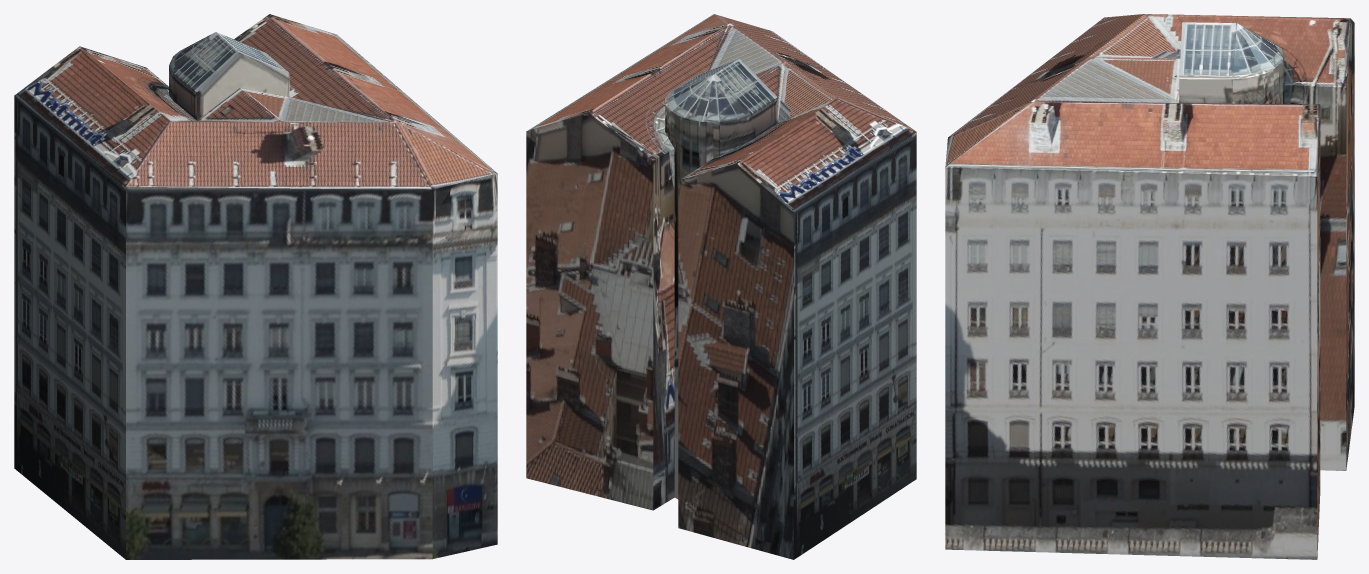
The picture shows the model from 3 angles, left to right: view 1: azimuth 30°, elevation 25°; view 2: azimuth 150°, elevation 25°; view 3: azimuth 270°, elevation 25°; orthographic projection. The views are drawn at different scales.
Parts seen in each view (by area): view 1: Z_UP; view 2: Z_UP; view 3: Z_UP.
Boxes of the visible parts, x1,y1,x2,y2 form: Z_UP: [14, 14, 497, 559]; Z_UP: [526, 14, 916, 559]; Z_UP: [945, 14, 1354, 559].
Bounding box in the file's own units: 22.28 × 29.94 × 24.34.
2 materials, 1 textured.
